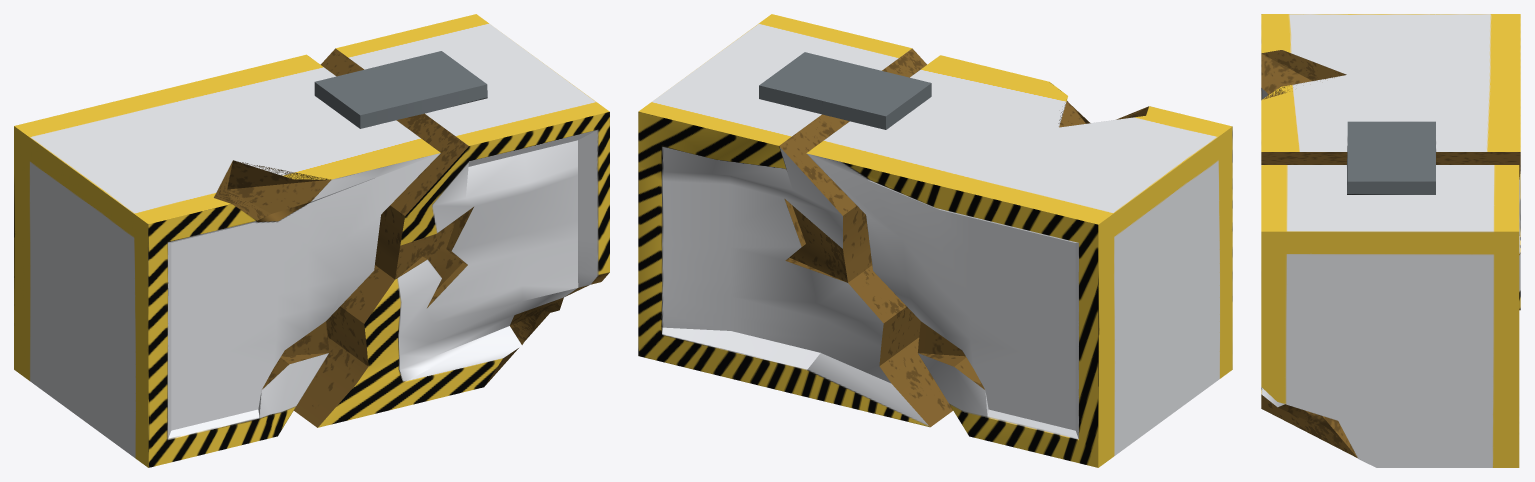
The model's file is Hazard_Cracked_Platform.fbx.
3 renders of one model, left to right at view 1: azimuth 30°, elevation 25°; view 2: azimuth 150°, elevation 25°; view 3: azimuth 270°, elevation 25°, orthographic. The views are drawn at different scales.
Parts seen in each view (by area): view 1: Cracked_Platform; view 2: Cracked_Platform; view 3: Cracked_Platform.
Part boxes in pixels (x1,y1,x2,y2): Cracked_Platform: (14, 14, 609, 467); Cracked_Platform: (638, 14, 1232, 467); Cracked_Platform: (1261, 14, 1520, 467).
Size of the model in its own units: 4.02 by 2.15 by 2.03.
3 materials, 3 textured.
